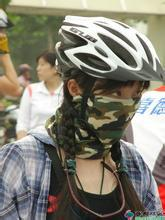NONE: (36, 62, 55, 83)
OK: (80, 76, 149, 135)
